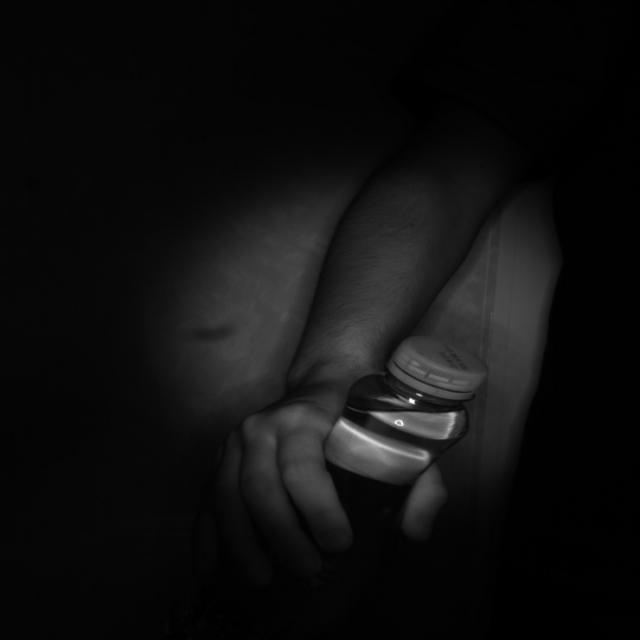Not Good: (389, 336, 486, 402)
